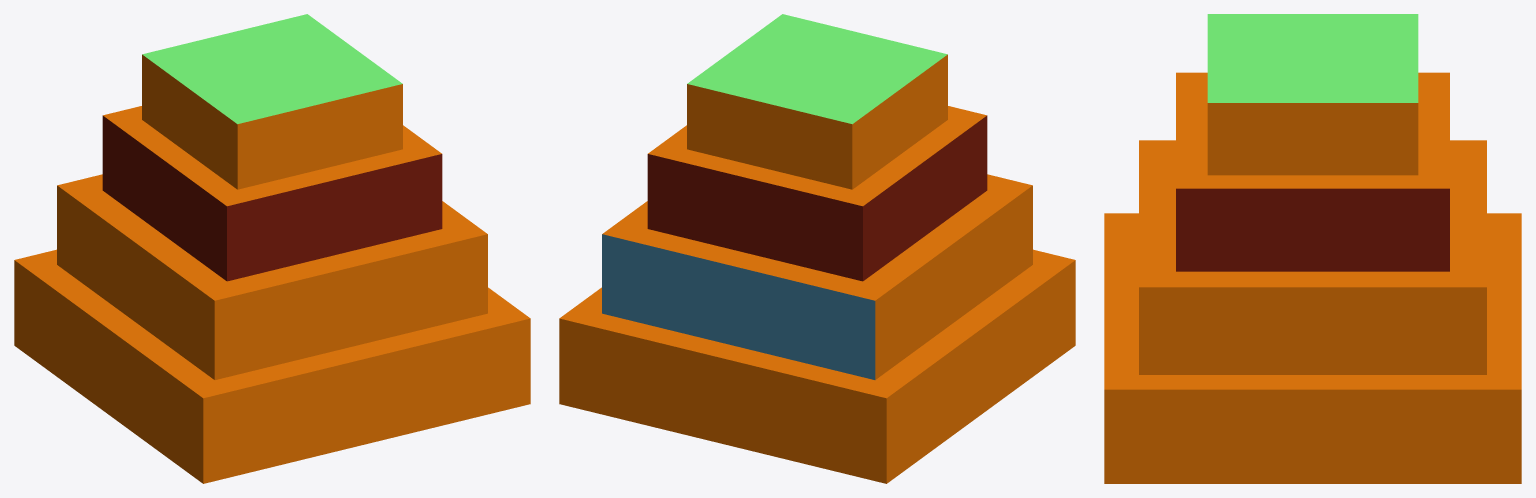
Rendered from stepPyramid.fbx.
3 views of the same model, side by side, from view 1: azimuth 30°, elevation 25°; view 2: azimuth 150°, elevation 25°; view 3: azimuth 270°, elevation 25° (orthographic). The views are drawn at different scales.
Parts seen in each view (by area): view 1: StepPyramid; view 2: StepPyramid; view 3: StepPyramid.
Boxes of the visible parts, box(x1,y1,x2,y2) form: StepPyramid: box(14, 14, 530, 483); StepPyramid: box(559, 14, 1075, 483); StepPyramid: box(1104, 14, 1521, 483).
Bounding box in the file's own units: 4 × 3.57 × 4.
